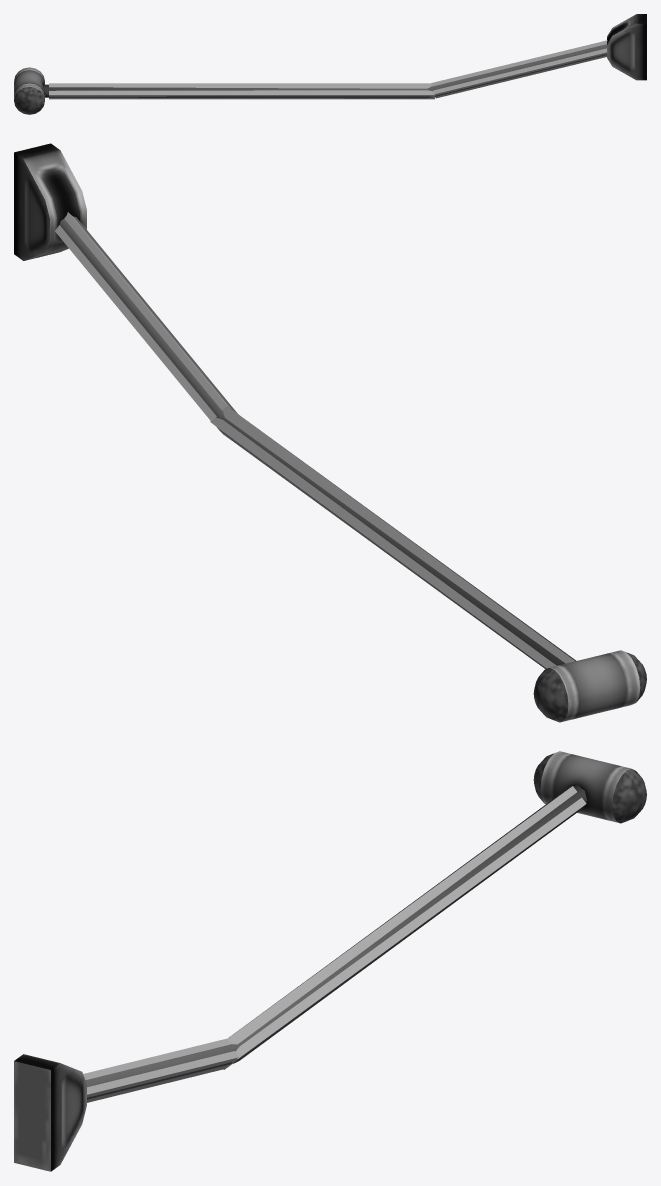
Rendered from Pioneer6_Boom_Ion.fbx.
3 views of the same model, one above another, from view 1: azimuth 30°, elevation 25°; view 2: azimuth 150°, elevation 25°; view 3: azimuth 270°, elevation 25° (orthographic). The views are drawn at different scales.
Parts seen in each view (by area): view 1: pCylinder28, pCylinder7, pCylinder27, pCube1, pCylinder8; view 2: pCylinder28, pCylinder7, pCube1, pCylinder8, pCylinder27; view 3: pCylinder28, pCube1, pCylinder7, pCylinder8, pCylinder27.
Boxes of the visible parts, box(x1,y1,x2,y2) form: pCylinder28: box(49, 83, 434, 99); pCylinder7: box(43, 44, 606, 98); pCylinder27: box(431, 40, 607, 98); pCube1: box(607, 14, 646, 80); pCylinder8: box(14, 67, 44, 114); pCylinder28: box(210, 406, 574, 668); pCylinder7: box(59, 216, 576, 669); pCube1: box(14, 143, 86, 260); pCylinder8: box(533, 650, 646, 722); pCylinder27: box(55, 212, 236, 421); pCylinder28: box(223, 786, 586, 1069); pCube1: box(14, 1054, 86, 1171); pCylinder7: box(85, 785, 586, 1099); pCylinder8: box(533, 751, 646, 823); pCylinder27: box(83, 1038, 238, 1102).
Size of the model in its own units: 0.9382 by 0.1576 by 0.5811.
Materials: 2 (1 with a texture image).
